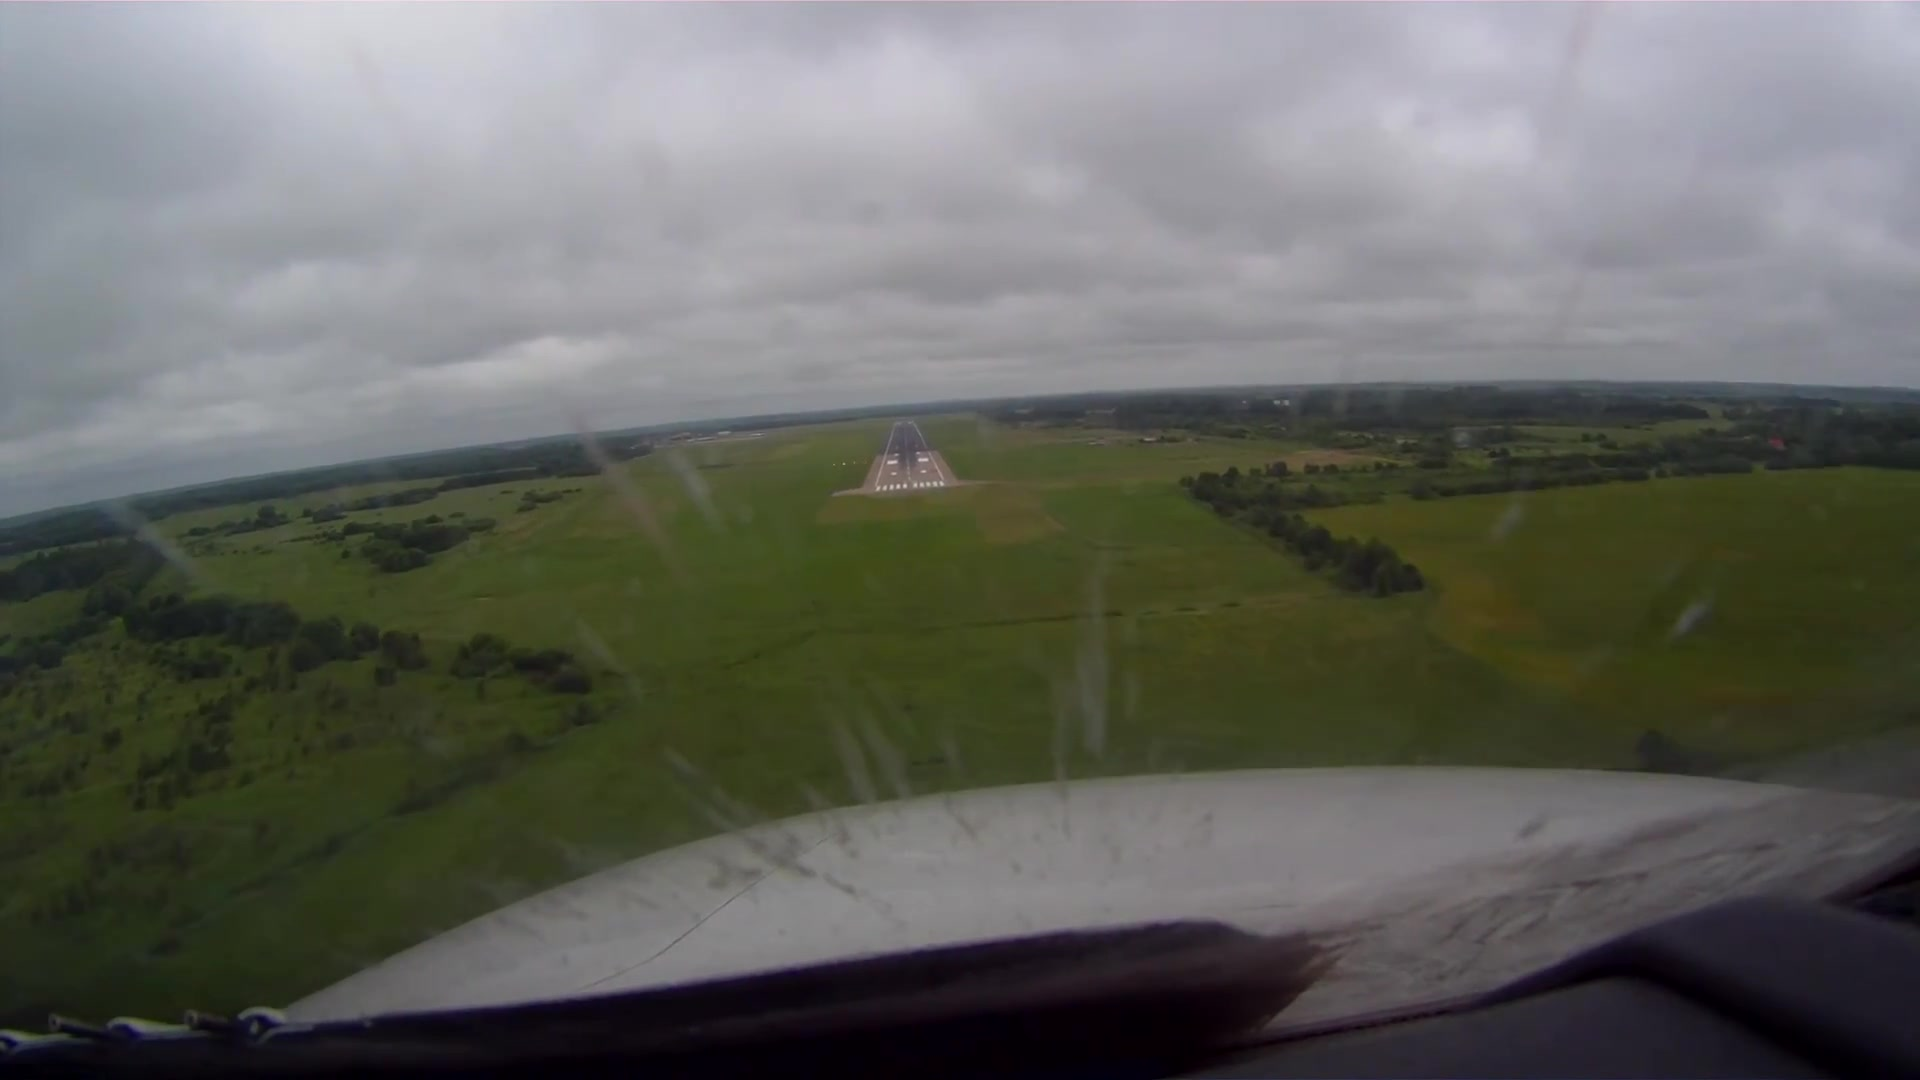entrance: (876, 481, 944, 492)
runway: (876, 417, 947, 495)
